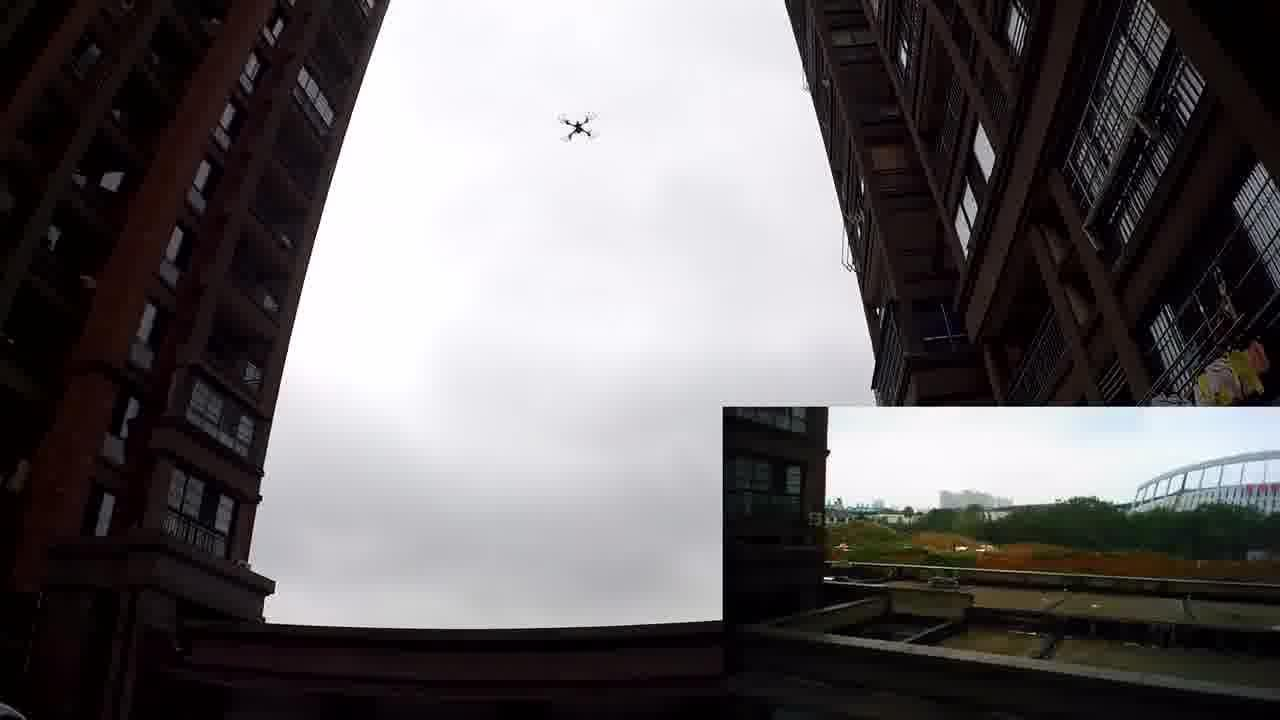drone: (551, 110, 601, 144)
